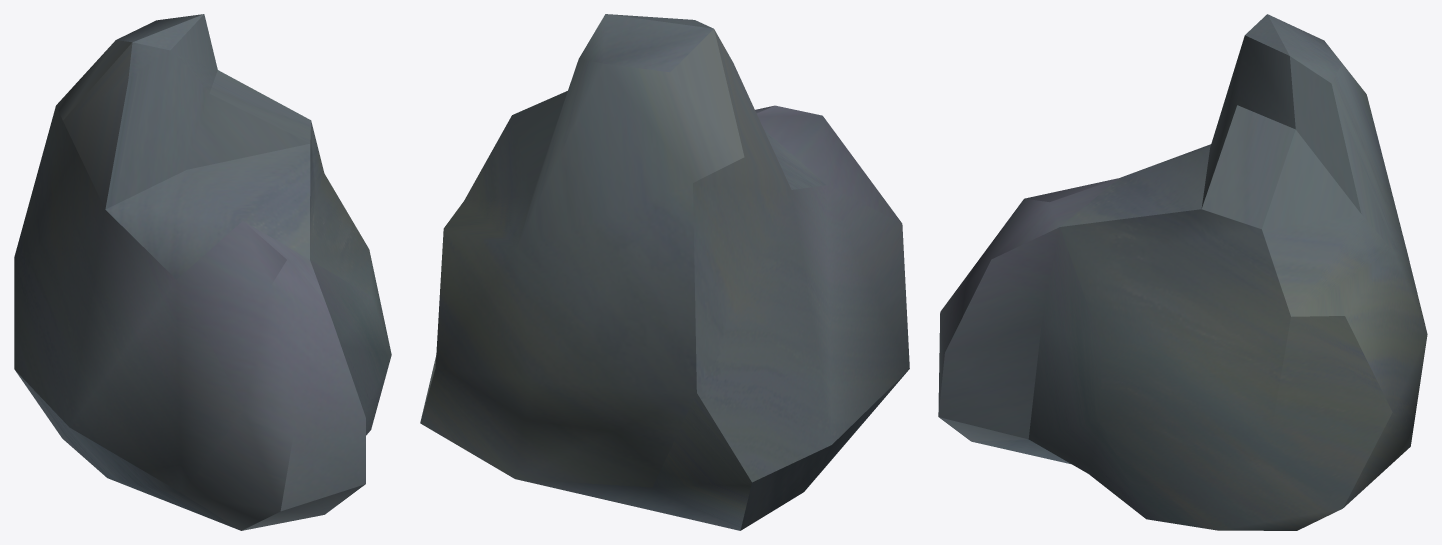
Rendered from SM_Stone_03.fbx.
The picture shows the model from 3 angles, left to right: view 1: azimuth 30°, elevation 25°; view 2: azimuth 150°, elevation 25°; view 3: azimuth 270°, elevation 25°; orthographic projection. The views are drawn at different scales.
Parts seen in each view (by area): view 1: SM_Stone_03; view 2: SM_Stone_03; view 3: SM_Stone_03.
Part boxes in pixels (<box>): SM_Stone_03: <box>14,14,391,530</box>; SM_Stone_03: <box>420,14,909,530</box>; SM_Stone_03: <box>938,14,1427,530</box>.
Size of the model in its own units: 231 by 292 by 302.
